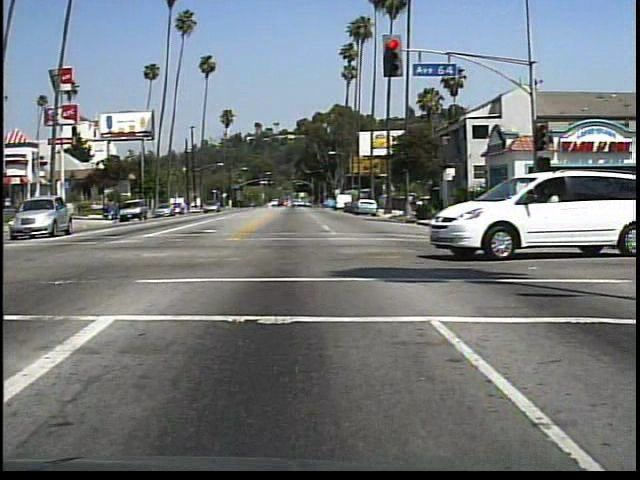person: (536, 186, 561, 235)
